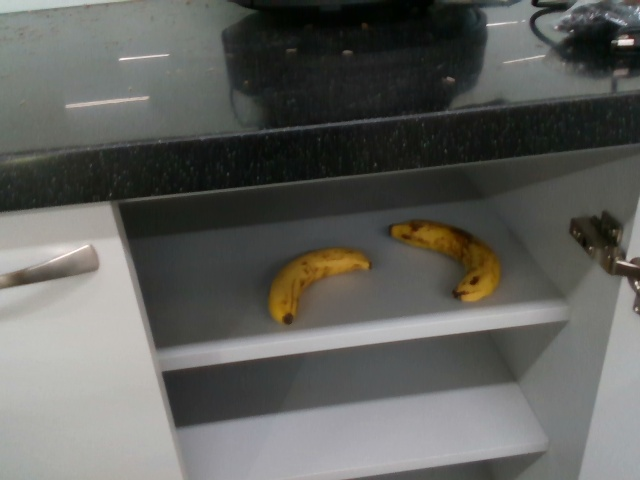banana: (387, 219, 502, 302), (259, 244, 372, 326)
